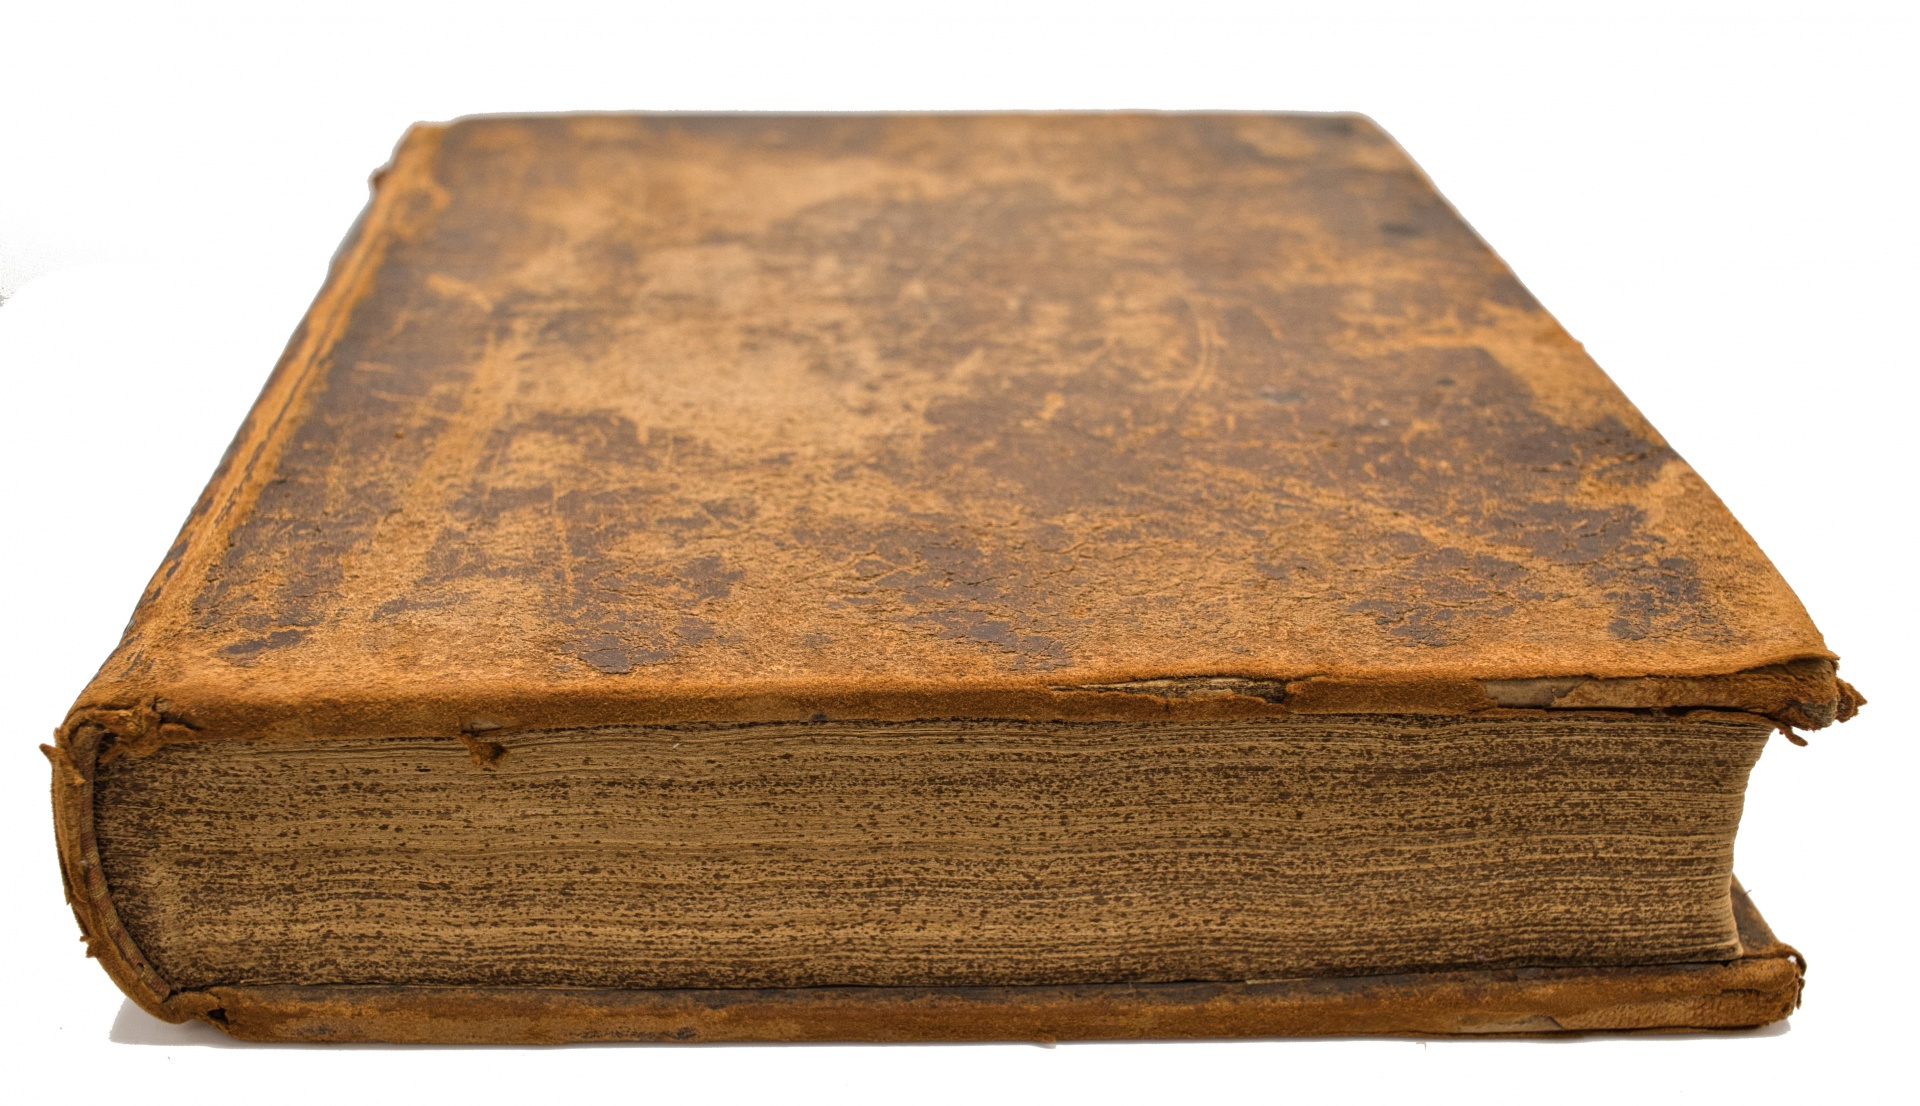book: (26, 22, 1887, 1070)
